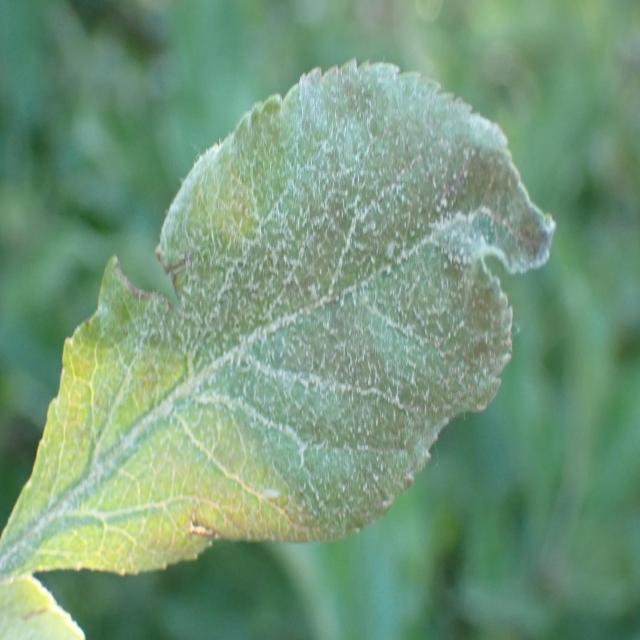Powdery_mildew: (21, 48, 568, 626)
